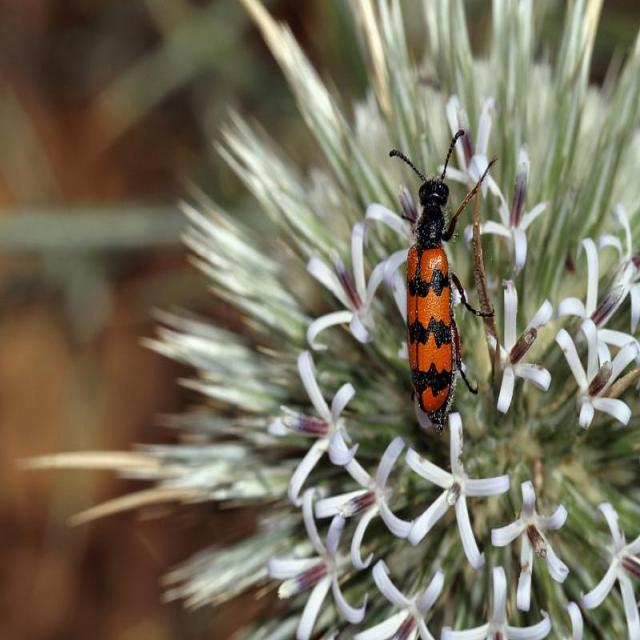BlisterBeetle-Adult-: (378, 110, 504, 444)
